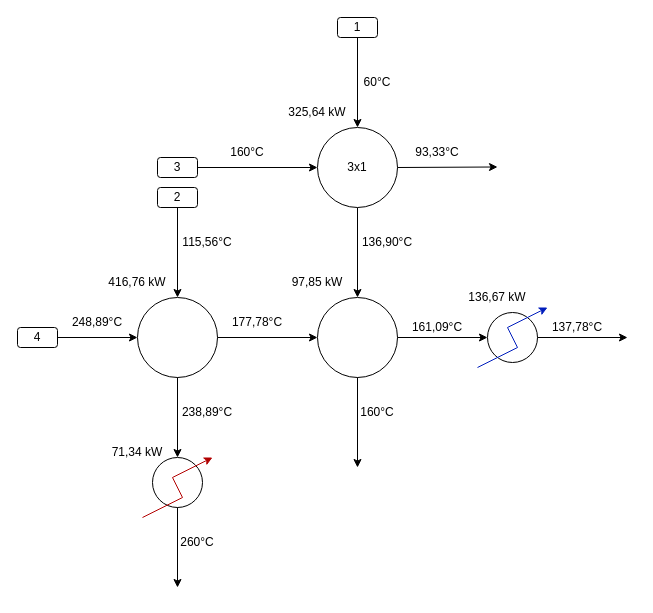
Image size: 653x613. Some labels were removed from this diagram. Here are the shapes that lost their labels. From the top down, the centre of each, then its label:
At point (177, 337): "4x2".
At point (357, 337): "4x1".
